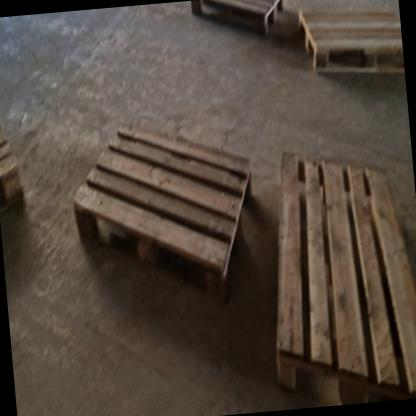BoxFace: (274, 147, 416, 407), (71, 112, 254, 313), (294, 3, 405, 76), (191, 0, 288, 46), (0, 117, 28, 221)
